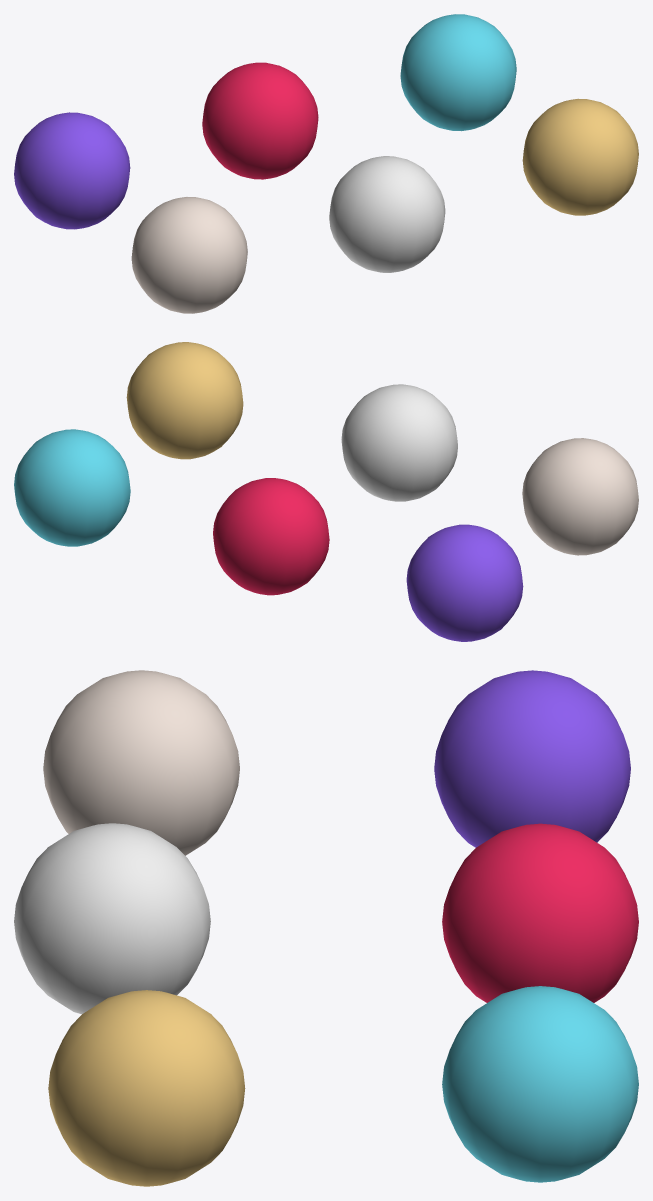
File: class9_2.glb
3 renders of one model, top to bottom at view 1: azimuth 30°, elevation 25°; view 2: azimuth 150°, elevation 25°; view 3: azimuth 270°, elevation 25°, orthographic. The views are drawn at different scales.
Visible parts, largest first — view 1: Sphere.007, Sphere.005, Sphere.006, Sphere.003, Sphere, Sphere.004; view 2: Sphere.006, Sphere, Sphere.007, Sphere.004, Sphere.005, Sphere.003; view 3: Sphere, Sphere.006, Sphere.003, Sphere.005, Sphere.004, Sphere.007.
Part boxes in pixels (x1=…): Sphere.007: x1=14, y1=112, x2=130, y2=229; Sphere.005: x1=202, y1=62, x2=318, y2=179; Sphere.006: x1=400, y1=14, x2=516, y2=131; Sphere.003: x1=329, y1=156, x2=445, y2=272; Sphere: x1=522, y1=98, x2=638, y2=215; Sphere.004: x1=131, y1=197, x2=247, y2=313; Sphere.006: x1=14, y1=429, x2=130, y2=546; Sphere: x1=126, y1=342, x2=243, y2=459; Sphere.007: x1=406, y1=524, x2=523, y2=641; Sphere.004: x1=522, y1=438, x2=638, y2=555; Sphere.005: x1=213, y1=478, x2=329, y2=595; Sphere.003: x1=341, y1=384, x2=457, y2=501; Sphere: x1=48, y1=990, x2=245, y2=1186; Sphere.006: x1=442, y1=986, x2=638, y2=1182; Sphere.003: x1=14, y1=823, x2=210, y2=1014; Sphere.005: x1=442, y1=823, x2=638, y2=1002; Sphere.004: x1=43, y1=670, x2=239, y2=855; Sphere.007: x1=434, y1=670, x2=630, y2=847.
Size of the model in its own units: 4.88 by 1.02 by 3.17.
